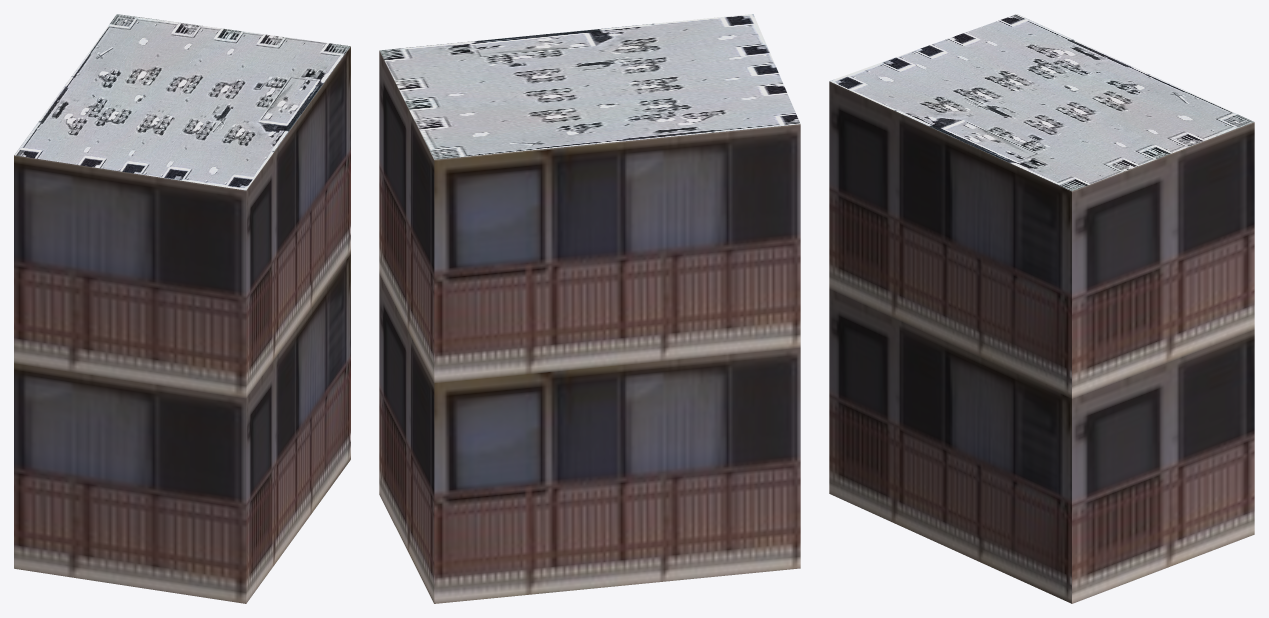
File: ResTex__5130.fbx
The picture shows the model from 3 angles, left to right: view 1: azimuth 30°, elevation 25°; view 2: azimuth 150°, elevation 25°; view 3: azimuth 270°, elevation 25°; orthographic projection. The views are drawn at different scales.
Visible parts, largest first — view 1: CityEngineMaterial_6_m, CityEngineMaterial_m; view 2: CityEngineMaterial_6_m, CityEngineMaterial_m; view 3: CityEngineMaterial_6_m, CityEngineMaterial_m.
Part boxes in pixels (bbox=[...]): CityEngineMaterial_6_m: bbox=[14, 46, 350, 603]; CityEngineMaterial_m: bbox=[14, 14, 350, 190]; CityEngineMaterial_6_m: bbox=[379, 51, 800, 603]; CityEngineMaterial_m: bbox=[379, 14, 800, 159]; CityEngineMaterial_6_m: bbox=[829, 81, 1254, 603]; CityEngineMaterial_m: bbox=[829, 14, 1254, 191].
Size of the model in its own units: 5.54 by 6 by 5.61.
Materials: 2 (2 with a texture image).
